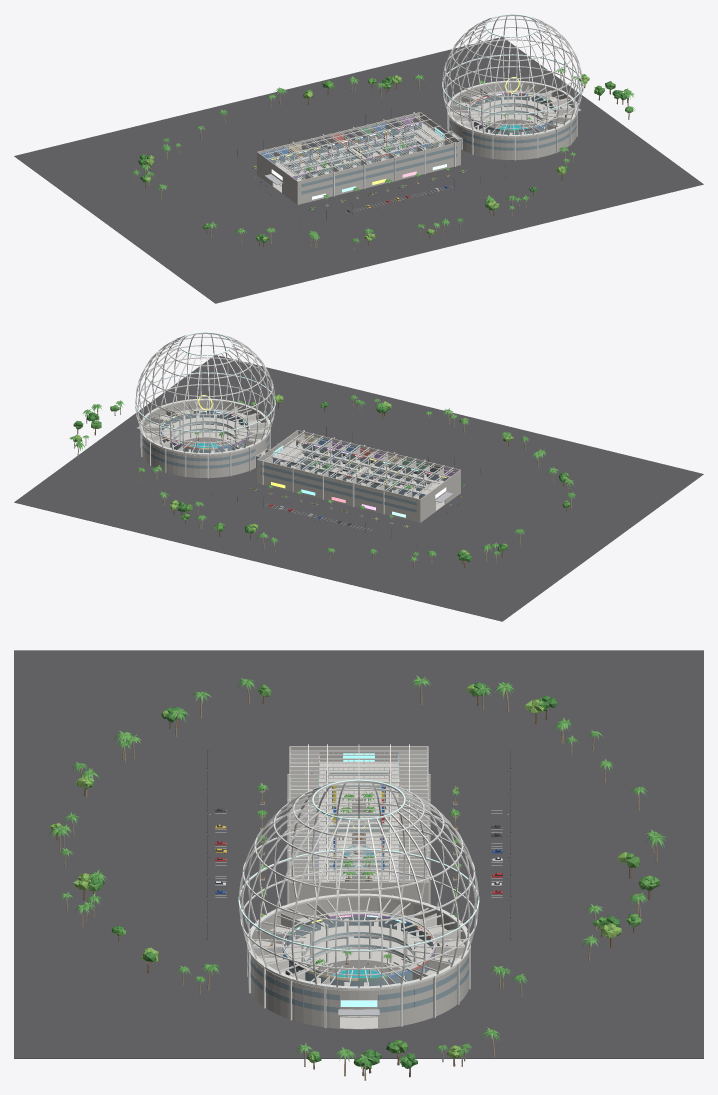
File: mall.glb
3 renders of one model, top to bottom at view 1: azimuth 30°, elevation 25°; view 2: azimuth 150°, elevation 25°; view 3: azimuth 270°, elevation 25°, orthographic. The views are drawn at different scales.
Visible parts, largest first — view 1: map; view 2: map; view 3: map.
Part boxes in pixels (bbox=[...]): map: bbox=[14, 14, 703, 303]; map: bbox=[14, 332, 703, 621]; map: bbox=[14, 650, 703, 1080].
Bounding box in the file's own units: 446 × 88.15 × 300.
